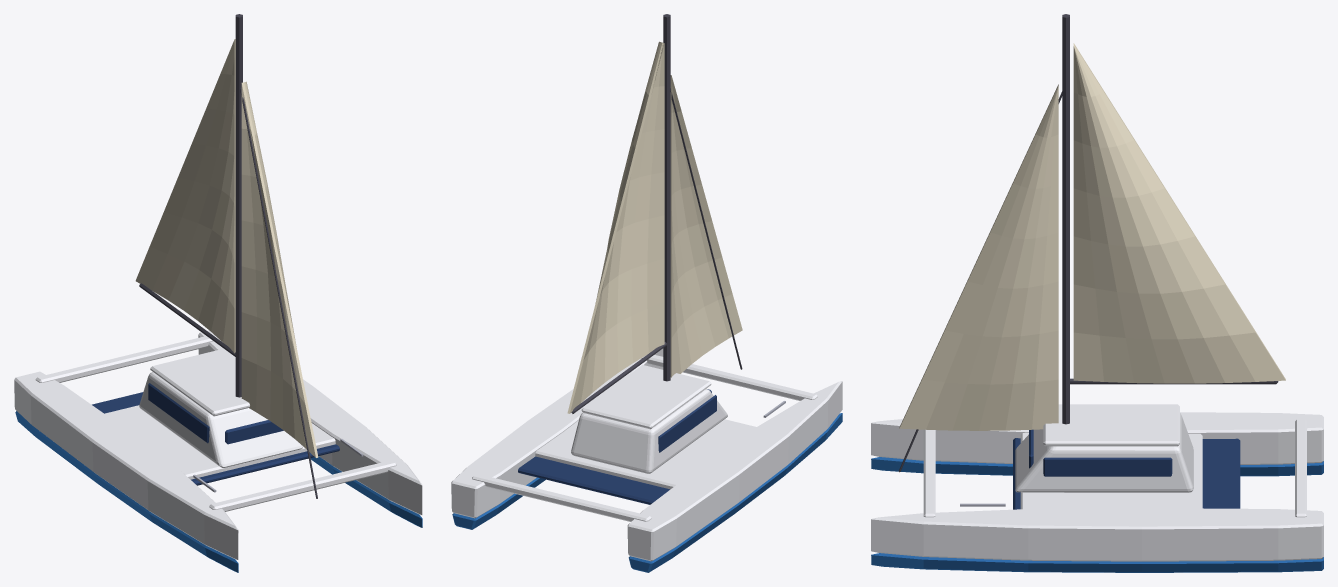
File: catamaran.glb
3 renders of one model, left to right at view 1: azimuth 30°, elevation 25°; view 2: azimuth 150°, elevation 25°; view 3: azimuth 270°, elevation 25°, orthographic. The views are drawn at different scales.
Visible parts, largest first — view 1: Catamaran; view 2: Catamaran; view 3: Catamaran.
Boxes of the visible parts, x1,y1,x2,y2 form: Catamaran: (14,14,422,572); Catamaran: (451,14,842,572); Catamaran: (871,14,1323,572).
Size of the model in its own units: 1.82 by 3.66 by 2.99.
1 material, 1 textured.
